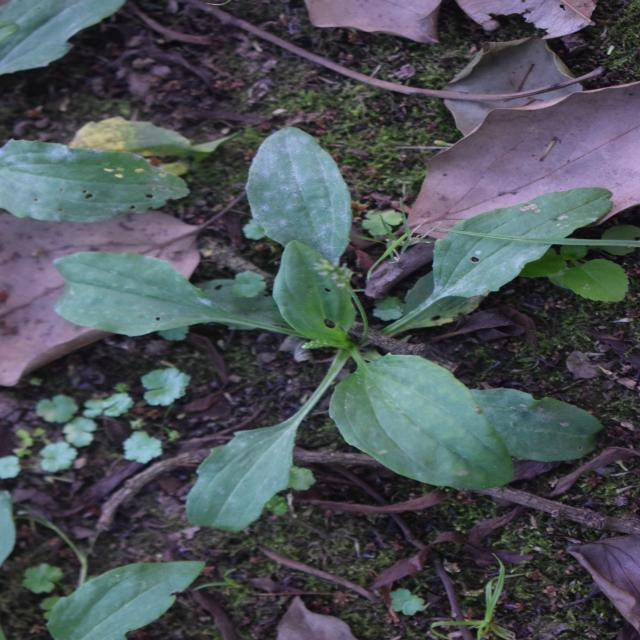plantain: (110, 104, 486, 584)
